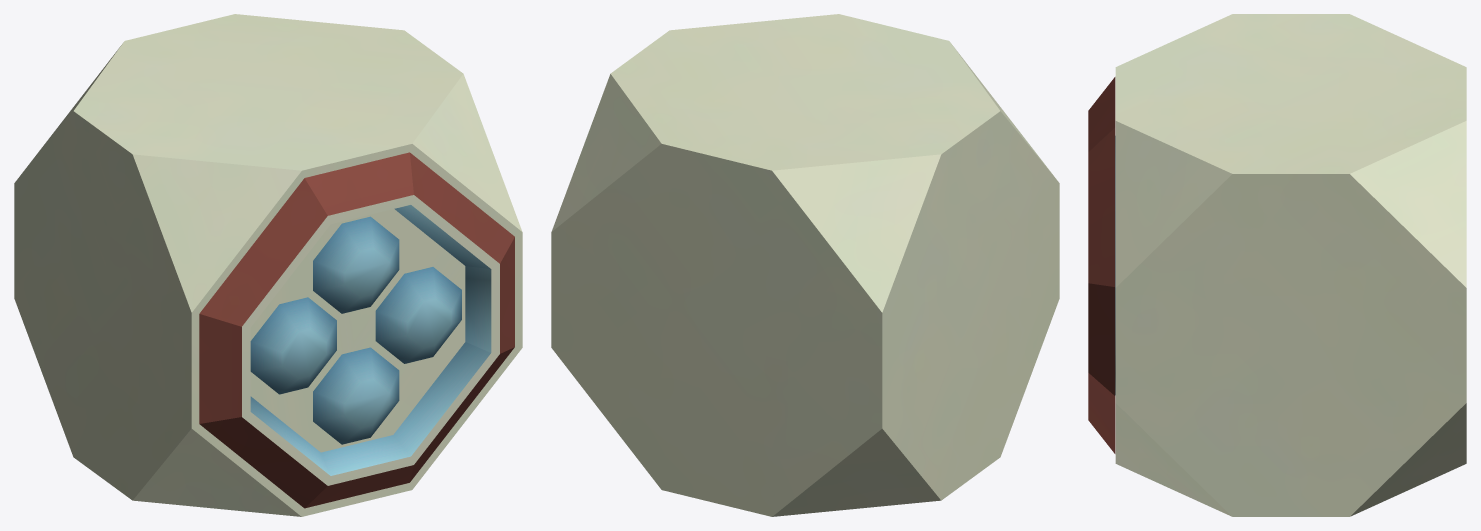
Rendered from Shield 3.fbx.
3 views of the same model, side by side, from view 1: azimuth 30°, elevation 25°; view 2: azimuth 150°, elevation 25°; view 3: azimuth 270°, elevation 25° (orthographic).
Parts seen in each view (by area): view 1: Shield 3; view 2: Shield 3; view 3: Shield 3.
Boxes of the visible parts, <box> form: Shield 3: <box>14,14,522,516</box>; Shield 3: <box>551,14,1059,516</box>; Shield 3: <box>1088,14,1466,516</box>.
Size of the model in its own units: 100 by 100 by 100.
